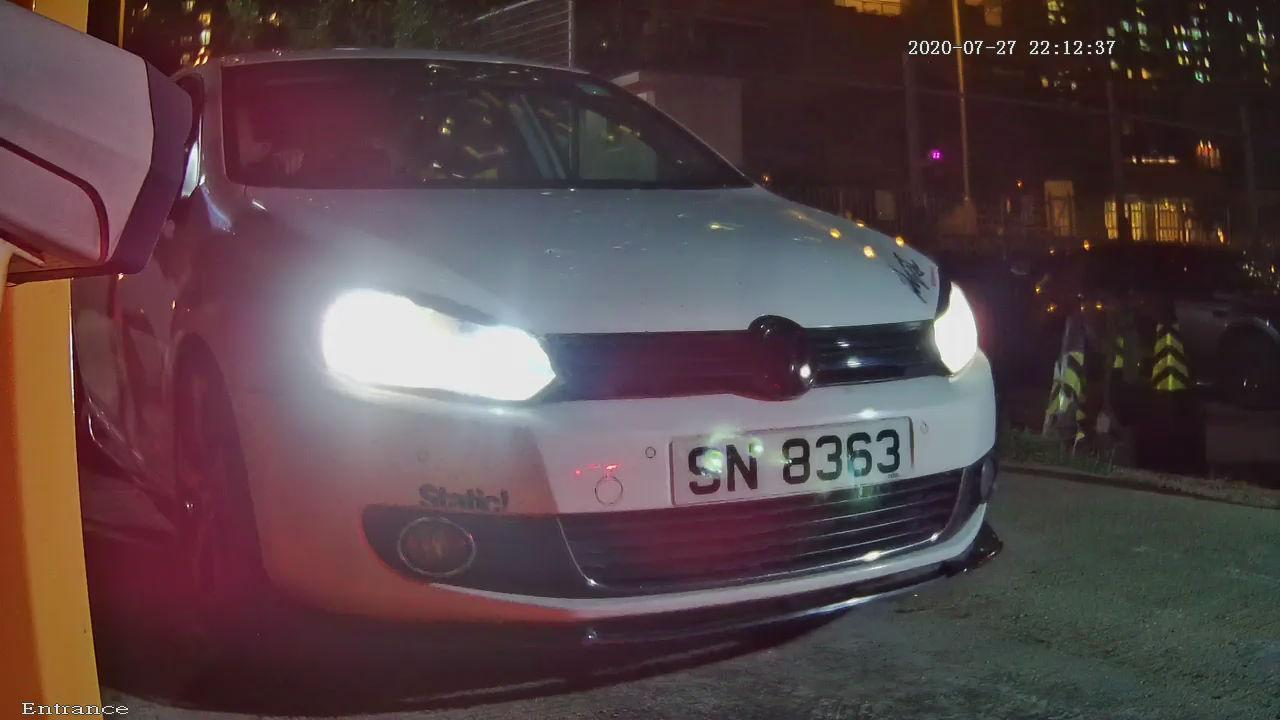privatecar: (92, 7, 1075, 717)
